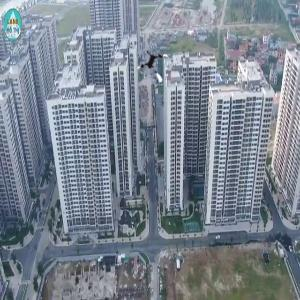drone: (136, 48, 174, 86)
